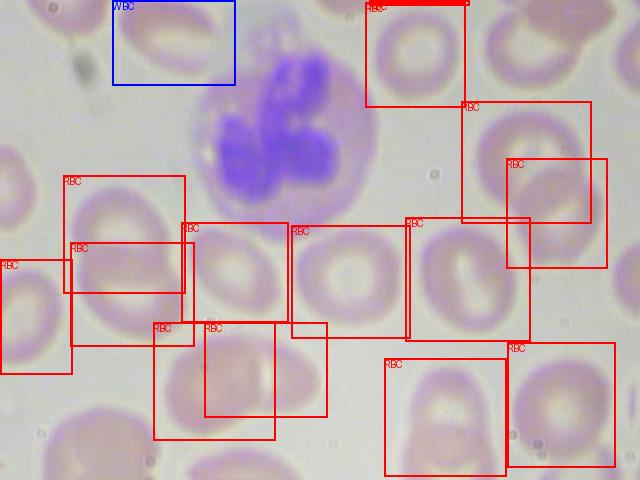RBC: (461, 101, 591, 223), (405, 217, 530, 341), (63, 175, 185, 293), (153, 322, 275, 440), (384, 358, 506, 476), (507, 342, 615, 467), (291, 225, 410, 338), (70, 242, 194, 346), (204, 322, 327, 417), (506, 158, 607, 268), (181, 222, 288, 322), (365, 2, 465, 107), (0, 259, 72, 374), (369, 0, 469, 5)
WBC: (112, 0, 235, 85)
